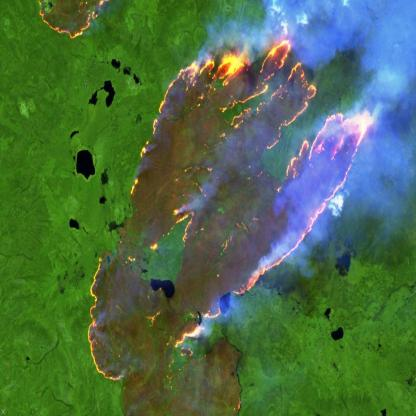fire: (86, 35, 376, 383), (32, 0, 109, 43)
